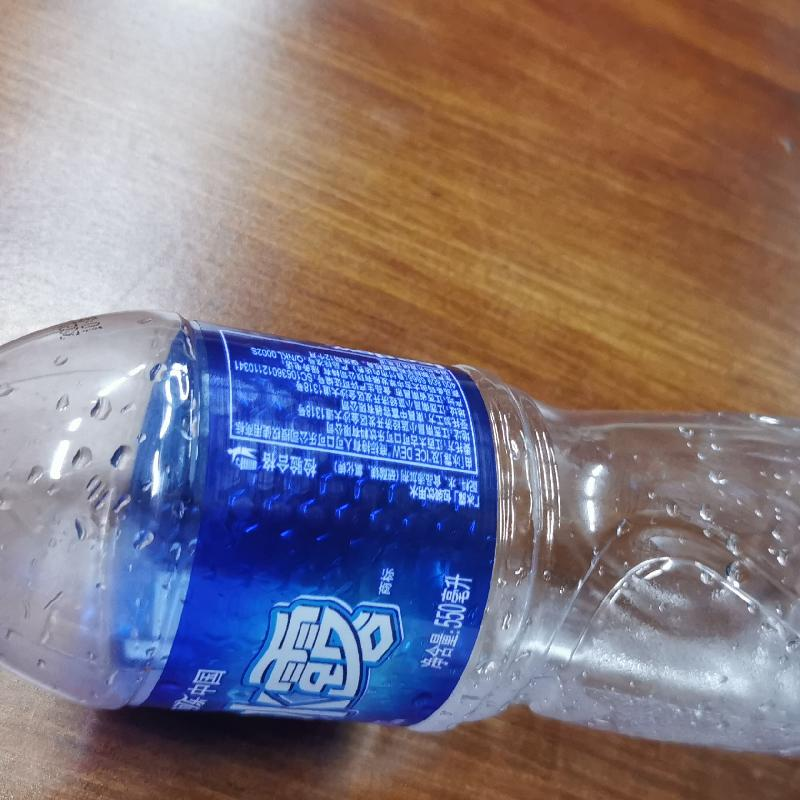bottles: (3, 305, 799, 765)
